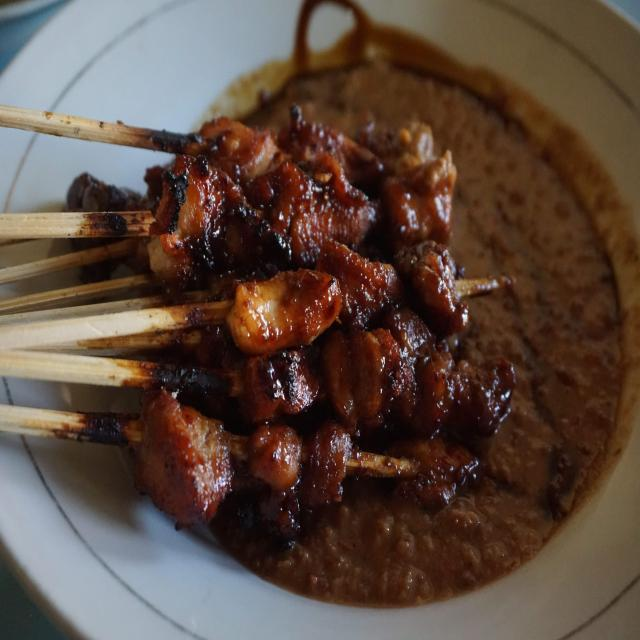Sate: (62, 70, 551, 560)
